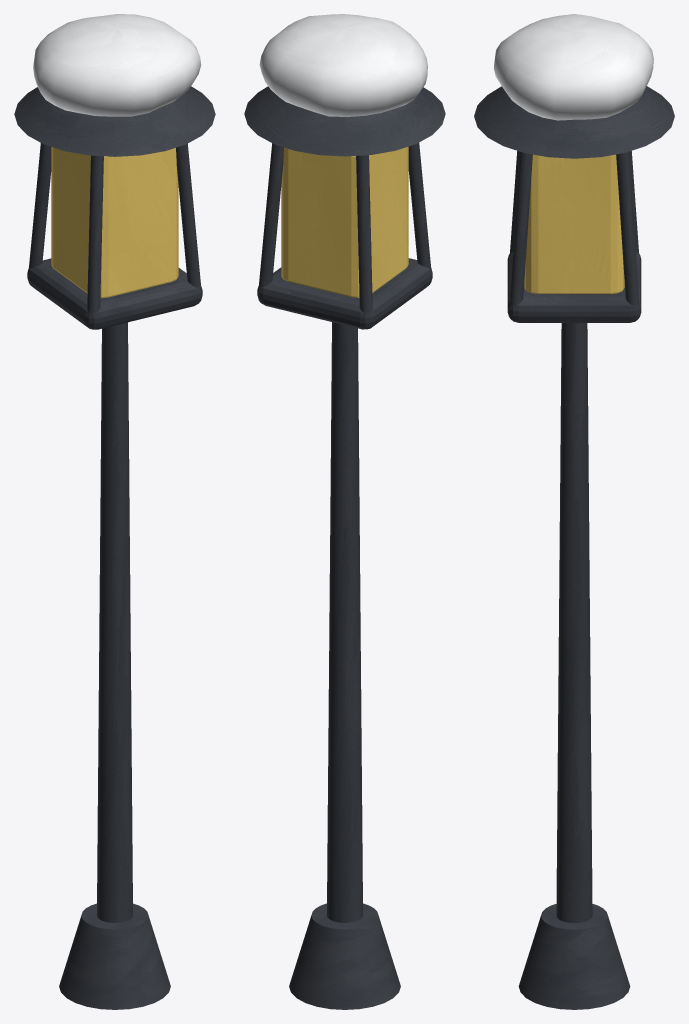
The model's file is lamp.glb.
The picture shows the model from 3 angles, left to right: view 1: azimuth 30°, elevation 25°; view 2: azimuth 150°, elevation 25°; view 3: azimuth 270°, elevation 25°; orthographic projection.
Parts seen in each view (by area): view 1: lamp; view 2: lamp; view 3: lamp.
Boxes of the visible parts, x1,y1,x2,y2 form: lamp: (14,14,215,1009); lamp: (244,14,445,1009); lamp: (474,14,674,1009).
Bounding box in the file's own units: 0.72 × 3.78 × 0.72.
1 material, 1 textured.
